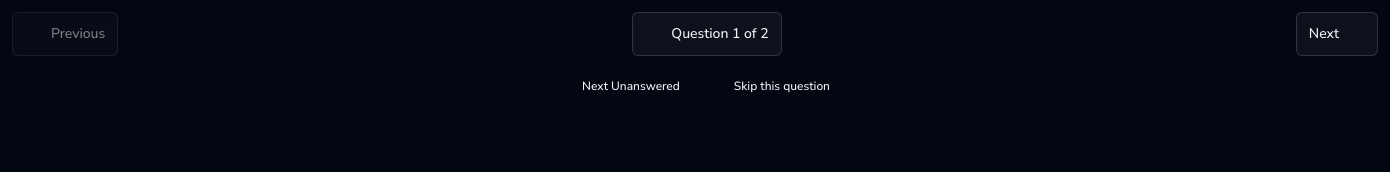
Test: QuestionNavigation - dropdown and getQuestionTitle › clicking the question counter button toggles the dropdown open
The image size is (1390, 172).
Step 1. Click the button "Question 1 of 2" → (707, 34), box left=632, top=12, right=782, bottom=56
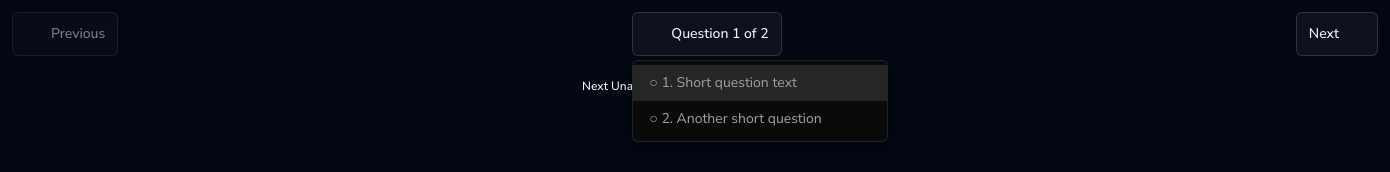
Expected: the list is shown, left=633, top=61, right=887, bottom=141
